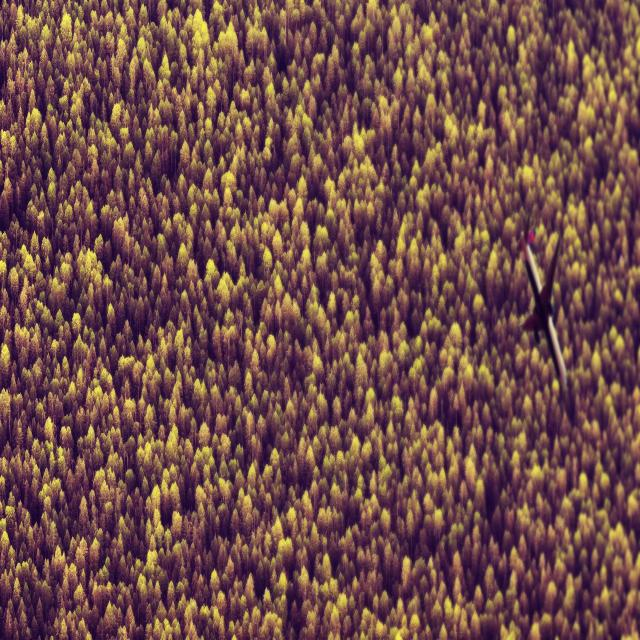airplane: (518, 228, 567, 389)
